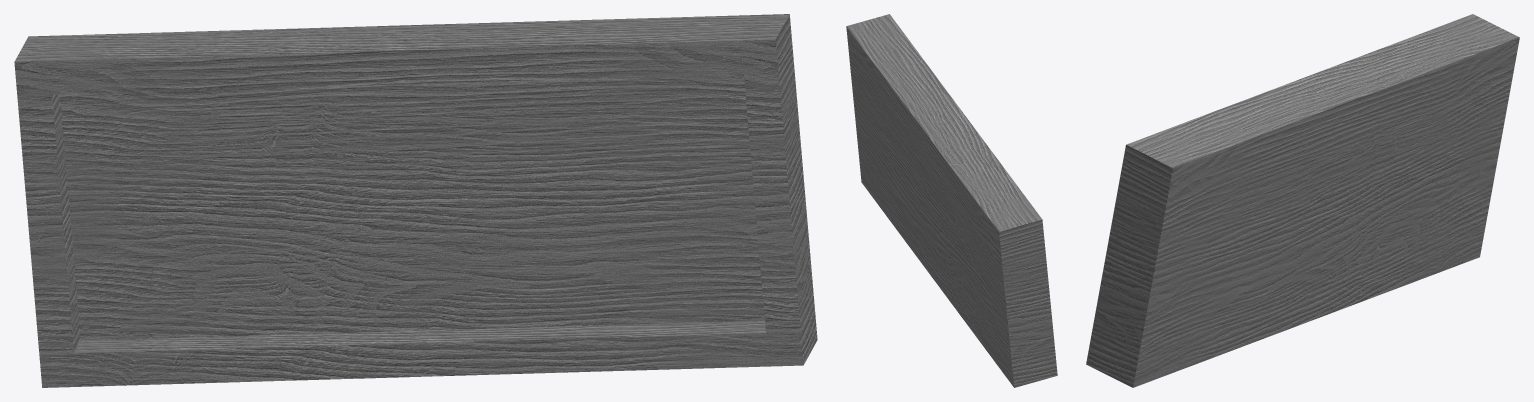
File: frame.obj
3 views of the same model, side by side, from view 1: azimuth 30°, elevation 25°; view 2: azimuth 150°, elevation 25°; view 3: azimuth 270°, elevation 25° (orthographic). The views are drawn at different scales.
Visible parts, largest first — view 1: Cube; view 2: Cube; view 3: Cube.
Part boxes in pixels (bbox=[...]): Cube: bbox=[14, 14, 817, 387]; Cube: bbox=[846, 14, 1057, 387]; Cube: bbox=[1086, 14, 1519, 387].
Size of the model in its own units: 51.58 by 33.69 by 47.54.
